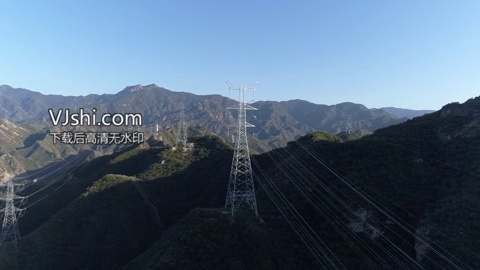tower_body: (219, 77, 268, 222)
tower_foot: (225, 188, 262, 219)
tower_head: (221, 79, 261, 93)
